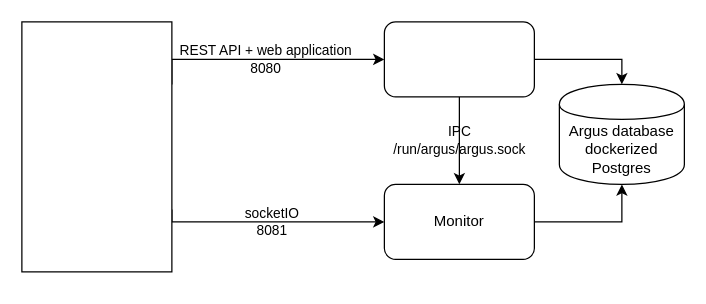
This 706x304 diagram has some shape labels left out. Each missing label, with the centre of its shape:
"Server" goes at (458,59).
"Web application" goes at (96,146).
